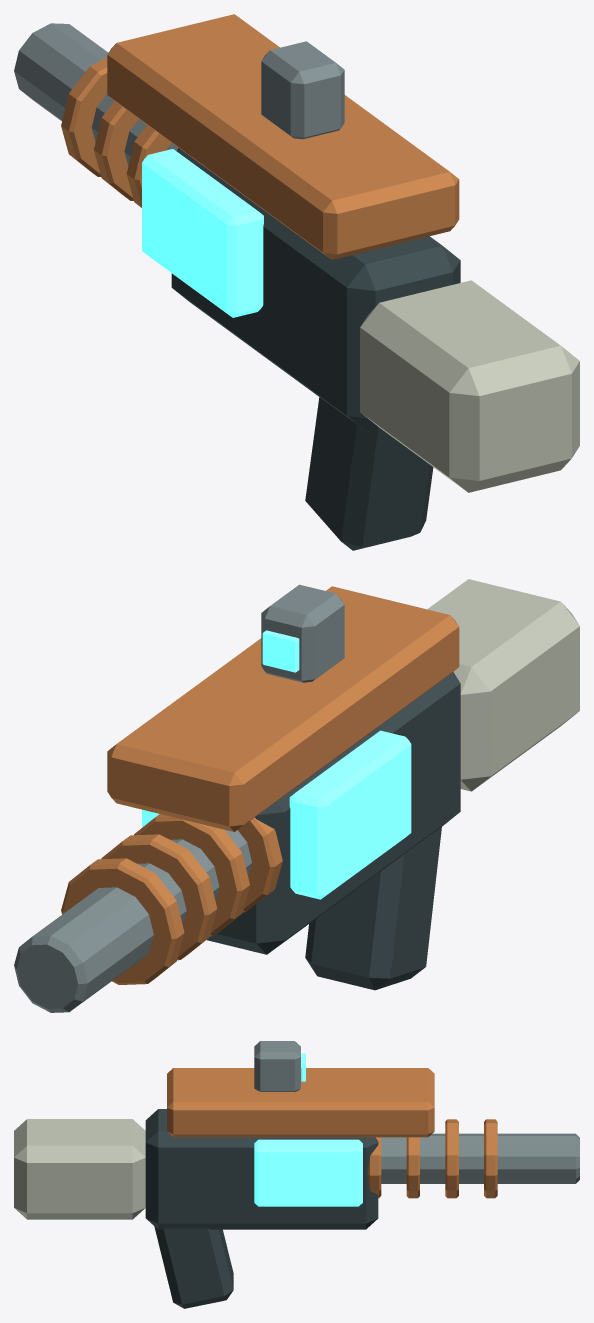
Rendered from lightning_rifle_t1.glb.
The picture shows the model from 3 angles, top to bottom: view 1: azimuth 30°, elevation 25°; view 2: azimuth 150°, elevation 25°; view 3: azimuth 270°, elevation 25°; orthographic projection. The views are drawn at different scales.
Parts seen in each view (by area): view 1: lightning_rifle_t1_Surface; view 2: lightning_rifle_t1_Surface; view 3: lightning_rifle_t1_Surface.
Boxes of the visible parts, box(x1,y1,x2,y2) form: lightning_rifle_t1_Surface: box(14, 14, 579, 550); lightning_rifle_t1_Surface: box(14, 579, 579, 1012); lightning_rifle_t1_Surface: box(14, 1041, 579, 1308).
Bounding box in the file's own units: 0.325 × 0.7235 × 1.46.
1 material, 1 textured.
